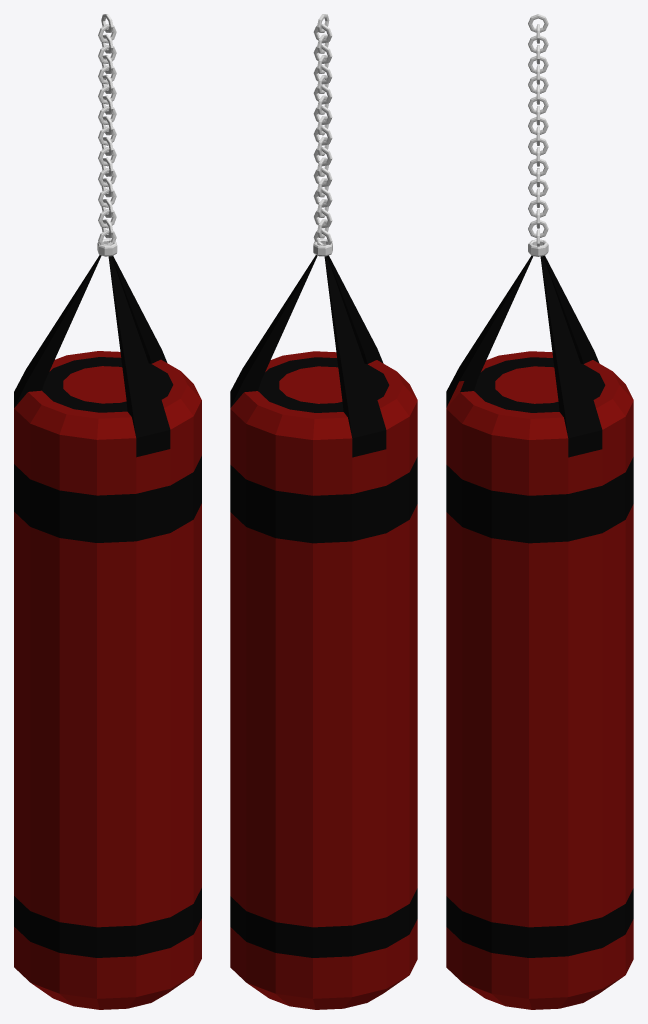
File: KumTorbası.fbx
The picture shows the model from 3 angles, left to right: view 1: azimuth 30°, elevation 25°; view 2: azimuth 150°, elevation 25°; view 3: azimuth 270°, elevation 25°; orthographic projection.
Parts seen in each view (by area): view 1: KumTorbası; view 2: KumTorbası; view 3: KumTorbası.
Part boxes in pixels (<box>): KumTorbası: <box>14,14,201,1009</box>; KumTorbası: <box>230,14,417,1009</box>; KumTorbası: <box>446,14,633,1009</box>.
Bounding box in the file's own units: 79.56 × 450 × 79.12.
